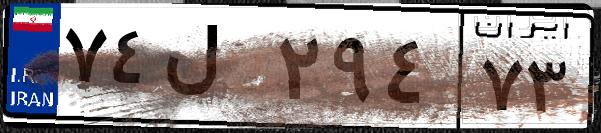2: (270, 28, 330, 110)
3: (525, 38, 570, 115)
4: (385, 28, 445, 110), (110, 28, 158, 98)
7: (57, 26, 110, 100), (475, 38, 525, 113)
9: (330, 28, 385, 110)
ل: (158, 20, 270, 120)
